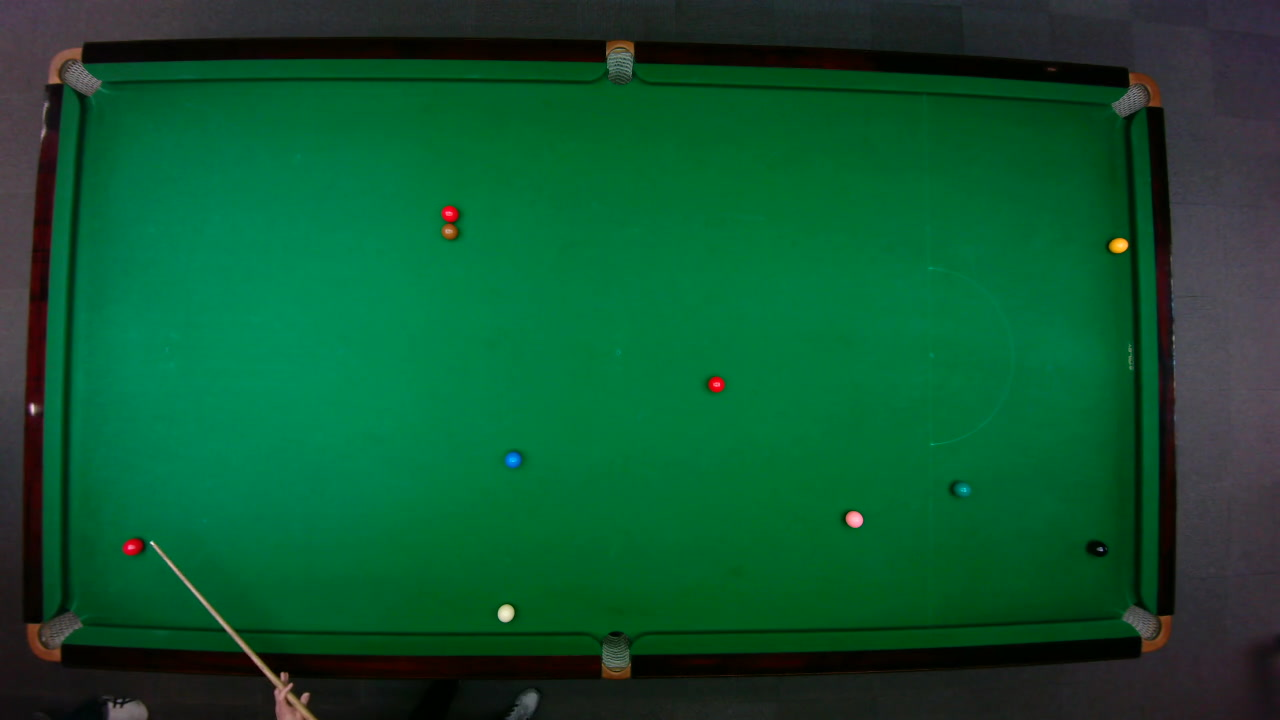bag: (25, 609, 84, 662), (45, 46, 102, 96), (1119, 603, 1172, 652), (1109, 71, 1161, 117), (600, 629, 630, 680), (605, 38, 633, 85)
black: (1087, 539, 1108, 557)
blue: (504, 450, 522, 468)
brown: (440, 223, 458, 240)
cue: (150, 539, 312, 719)
green: (951, 480, 972, 497)
pink: (843, 508, 864, 528)
red: (121, 537, 143, 555), (706, 374, 725, 393), (439, 204, 459, 222)
white: (495, 602, 515, 622)
yellow: (1107, 236, 1129, 253)
zone: (927, 265, 1014, 445)
